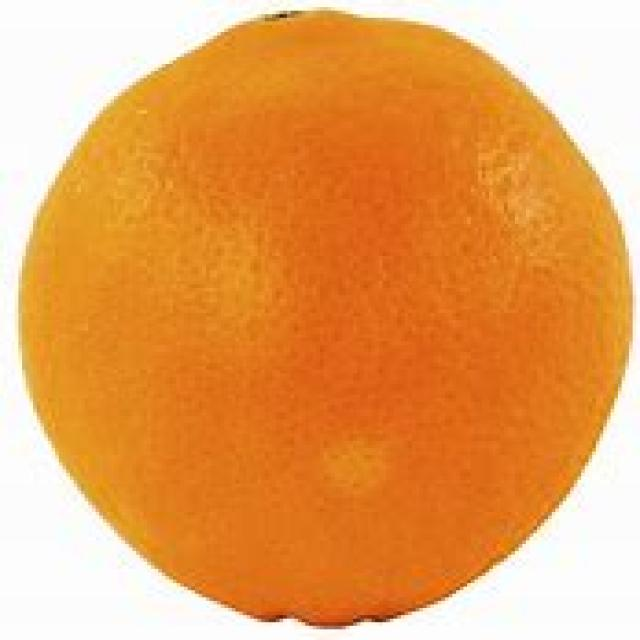orange: (17, 6, 635, 627)
